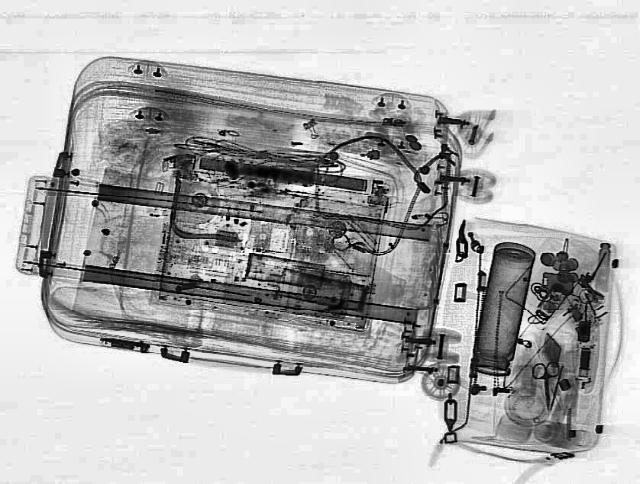Scissors: (532, 362, 562, 410)
